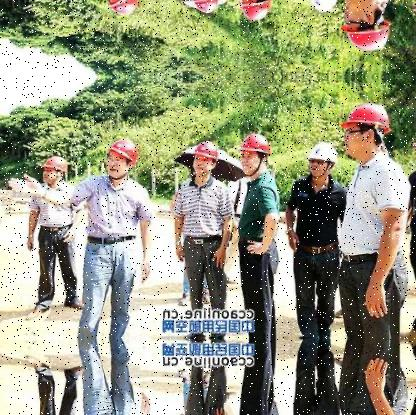helmet: (344, 100, 393, 157), (344, 0, 394, 53), (102, 135, 143, 179), (239, 131, 274, 173), (306, 140, 341, 181), (191, 138, 221, 179), (40, 153, 70, 185), (239, 0, 275, 22), (102, 0, 144, 18), (306, 0, 342, 13), (190, 0, 221, 15)
